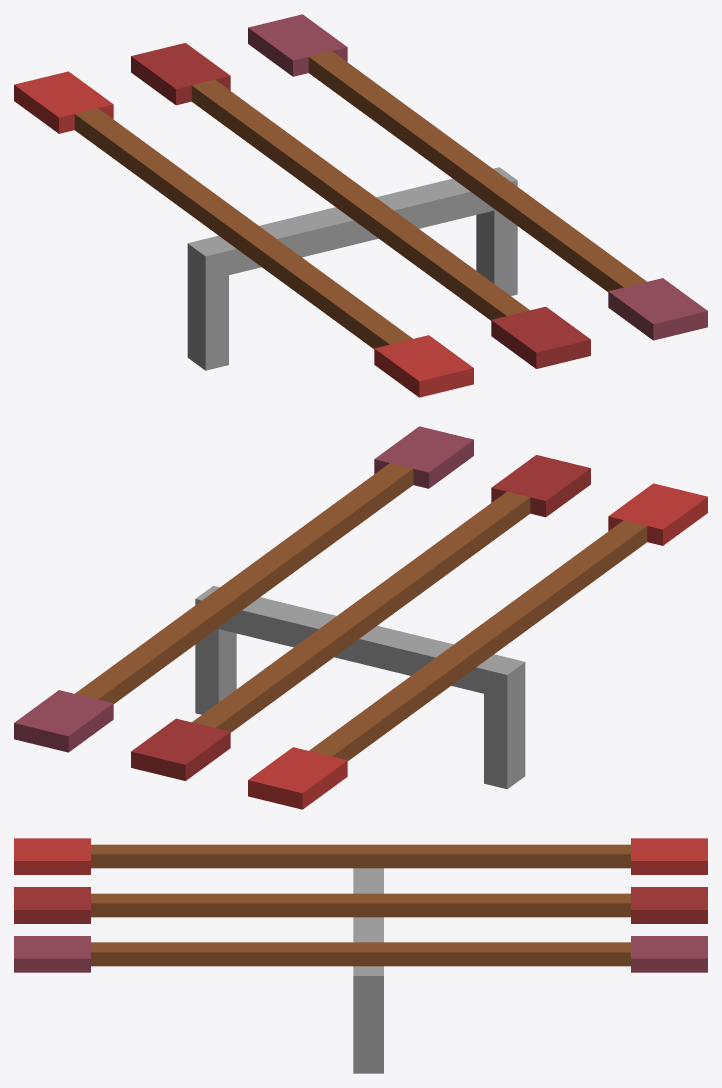
The model's file is SchoolPack-10-Ups and downs.obj.
The picture shows the model from 3 angles, top to bottom: view 1: azimuth 30°, elevation 25°; view 2: azimuth 150°, elevation 25°; view 3: azimuth 270°, elevation 25°; orthographic projection. The views are drawn at different scales.
Visible parts, largest first — view 1: Ups and downs; view 2: Ups and downs; view 3: Ups and downs.
Boxes of the visible parts, x1=… form: Ups and downs: x1=14, y1=14, x2=707, y2=397; Ups and downs: x1=14, y1=426, x2=707, y2=809; Ups and downs: x1=14, y1=838, x2=707, y2=1073.
Size of the model in its own units: 4 by 1.6 by 9.
Materials: 1 (1 with a texture image).
